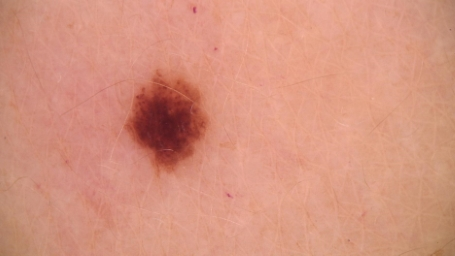nevus: (126, 70, 210, 171)
